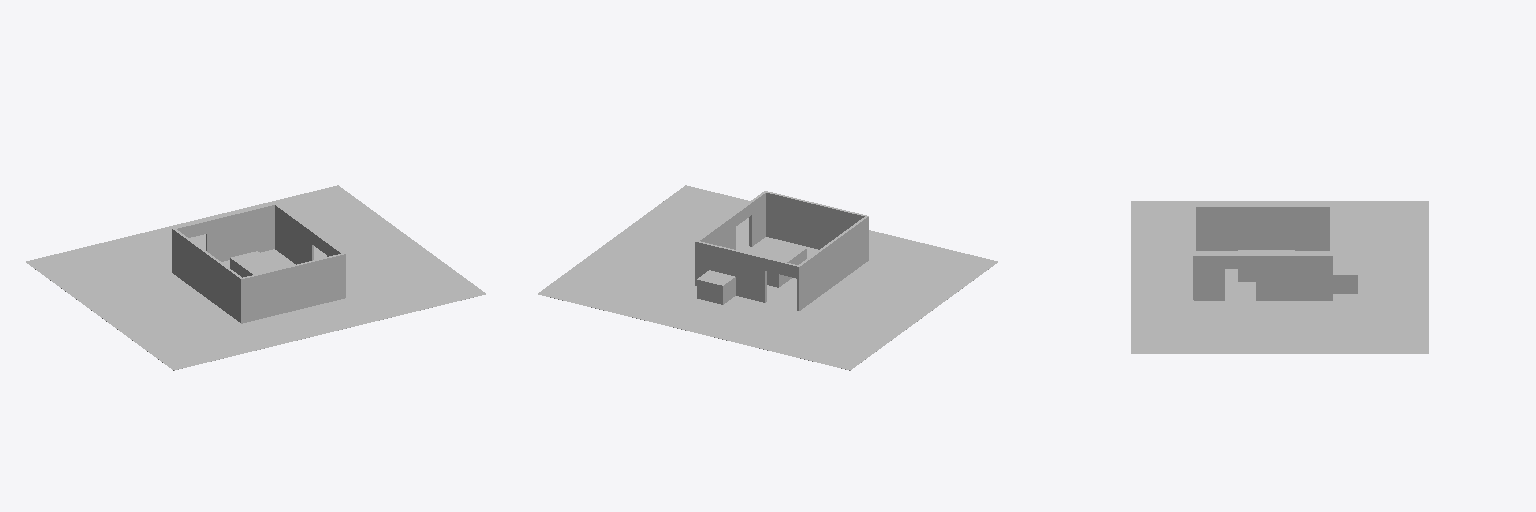
File: level1.obj
3 renders of one model, left to right at view 1: azimuth 30°, elevation 25°; view 2: azimuth 150°, elevation 25°; view 3: azimuth 270°, elevation 25°, orthographic.
Parts seen in each view (by area): view 1: Floor, building1_wall4, building1_wall5, building1_wall1, building1_wall3, box1.001; view 2: Floor, building1_wall4, building1_wall5, building1_wall1, box1, box1.001, building1_wall3, building1_wall2; view 3: Floor, building1_wall5, building1_wall3, building1_wall2, box1.
Boxes of the visible parts, box(x1,y1,x2,y2) form: Floor: box(26, 185, 485, 370); building1_wall4: box(240, 253, 344, 323); building1_wall5: box(172, 228, 241, 321); building1_wall1: box(206, 204, 274, 261); building1_wall3: box(274, 203, 313, 264); box1.001: box(230, 251, 279, 277); Floor: box(538, 185, 997, 370); building1_wall4: box(765, 191, 868, 260); building1_wall5: box(797, 216, 867, 310); building1_wall1: box(697, 241, 766, 302); box1: box(697, 270, 735, 304); box1.001: box(760, 241, 806, 287); building1_wall3: box(695, 214, 735, 285); building1_wall2: box(749, 191, 765, 246); Floor: box(1131, 201, 1428, 353); building1_wall5: box(1196, 205, 1332, 250); building1_wall3: box(1256, 255, 1332, 300); building1_wall2: box(1194, 255, 1224, 300); box1: box(1333, 262, 1357, 293).
Bounding box in the file's own units: 208 × 28.37 × 171.